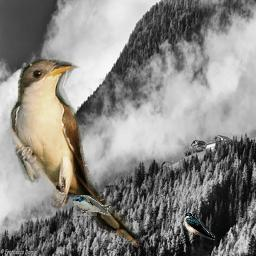Cuckoo: (10, 59, 143, 252)
Swallow: (184, 212, 215, 240), (73, 195, 111, 216)
